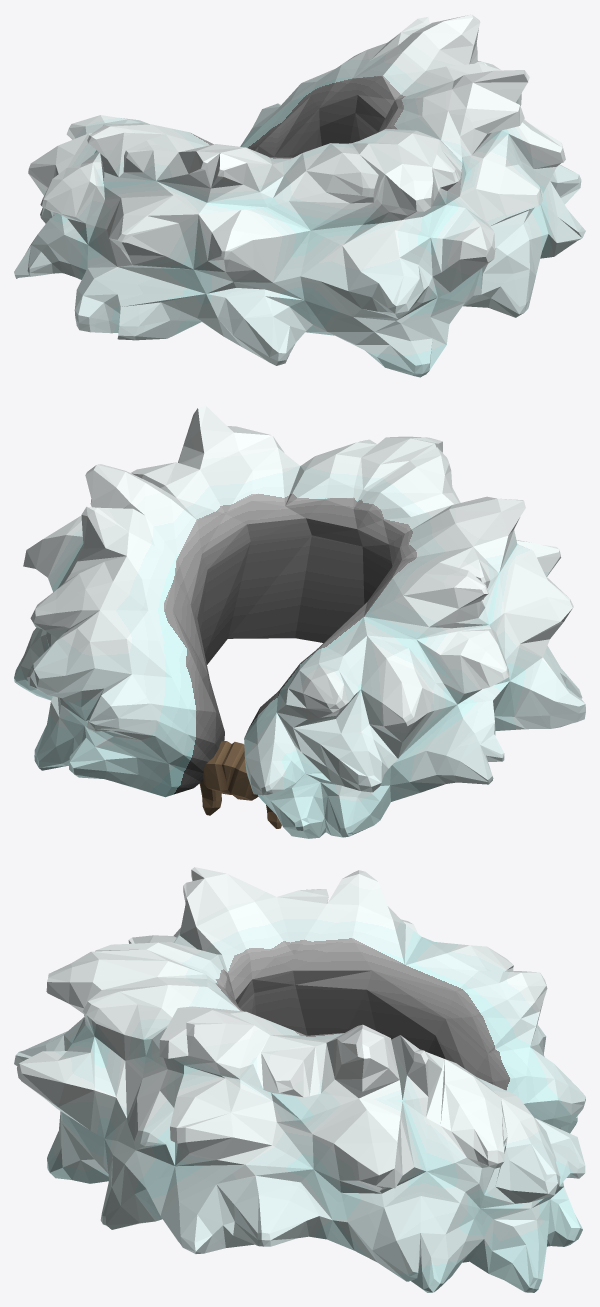
Rendered from CharSkyKid_Neck_AP18FluffyRuff.glb.
The picture shows the model from 3 angles, top to bottom: view 1: azimuth 30°, elevation 25°; view 2: azimuth 150°, elevation 25°; view 3: azimuth 270°, elevation 25°; orthographic projection. The views are drawn at different scales.
Parts seen in each view (by area): view 1: CharSkyKid_Neck_AP18FluffyRuff; view 2: CharSkyKid_Neck_AP18FluffyRuff; view 3: CharSkyKid_Neck_AP18FluffyRuff.
Part boxes in pixels (x1,y1,x2,y2): CharSkyKid_Neck_AP18FluffyRuff: (14, 14, 585, 377); CharSkyKid_Neck_AP18FluffyRuff: (14, 406, 585, 838); CharSkyKid_Neck_AP18FluffyRuff: (14, 867, 585, 1292).
Bounding box in the file's own units: 4.72 × 2.47 × 4.24.
1 material, 1 textured.
